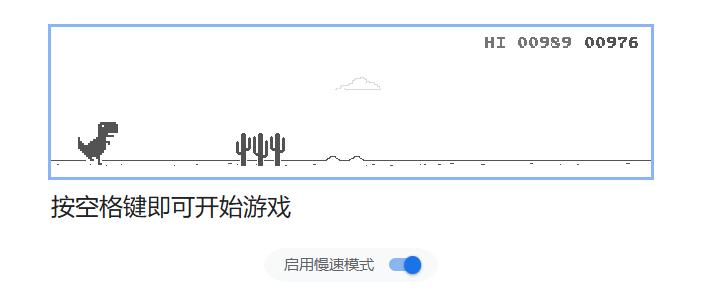cactus: (234, 132, 286, 167)
dino: (75, 121, 119, 166)
